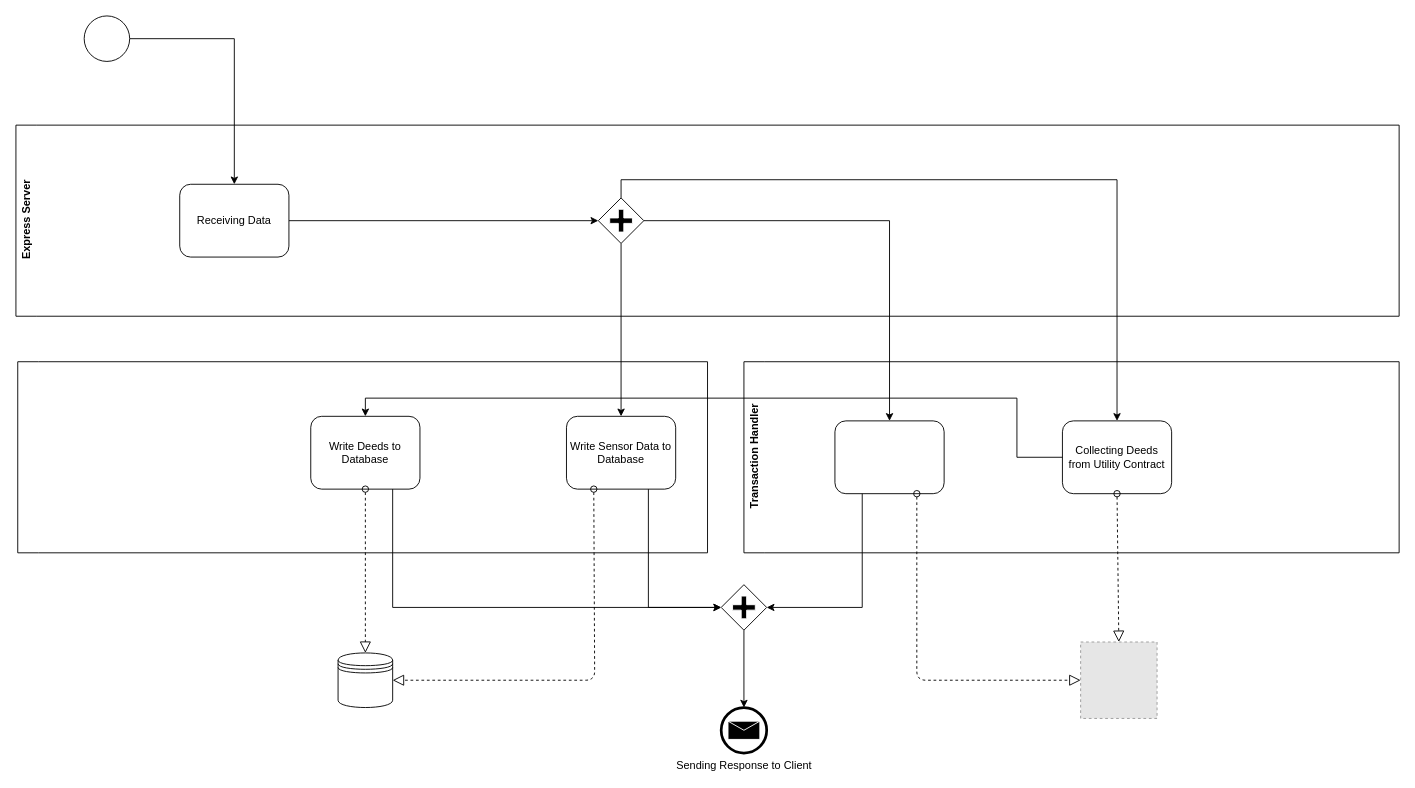
This 1415x788 diagram has some shape labels left out. Grey dashed boxes stand in for pictures. Here are the shapes that lost their labels. From the top down, the box of each, then its label:
(83, 15, 130, 61): Put Request from Sensor
(17, 361, 708, 553): DB Handler
(834, 420, 944, 494): Send Transaction to the Blockchain
